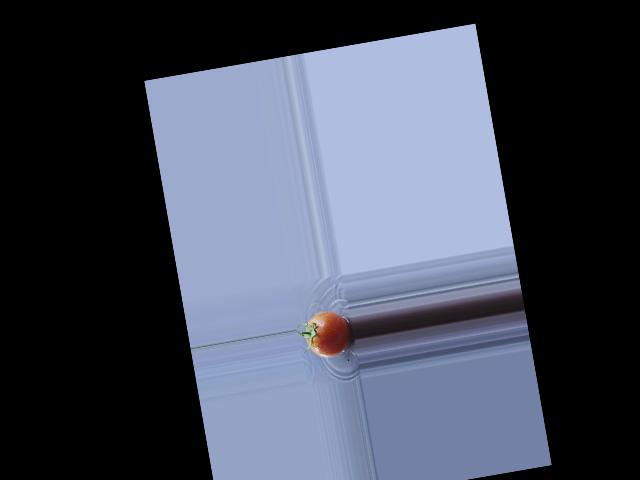tomato: (302, 308, 354, 360)
